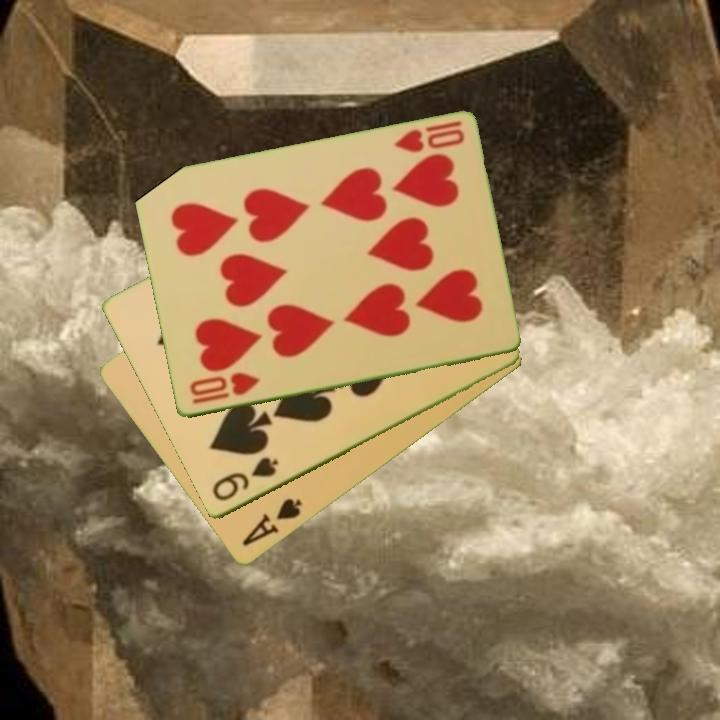10h: (390, 117, 468, 156), (186, 369, 262, 408)
9s: (208, 453, 282, 505)
As: (238, 495, 305, 550)
